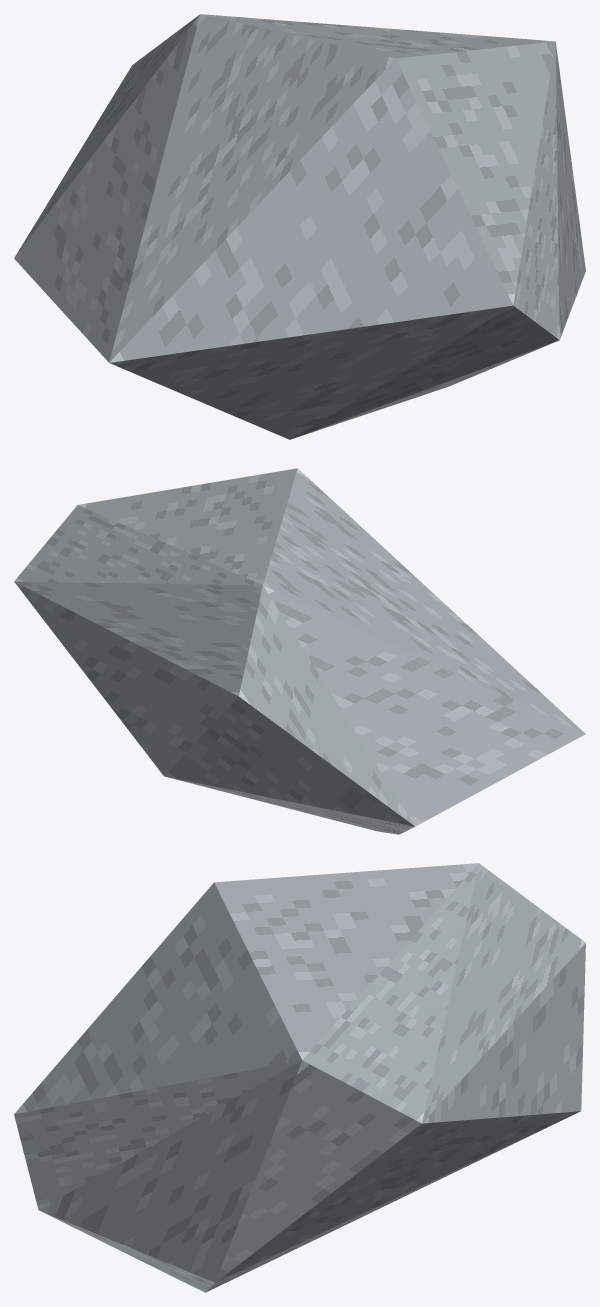
File: steel_chunk.glb
The picture shows the model from 3 angles, top to bottom: view 1: azimuth 30°, elevation 25°; view 2: azimuth 150°, elevation 25°; view 3: azimuth 270°, elevation 25°; orthographic projection. The views are drawn at different scales.
Visible parts, largest first — view 1: block_irregular metal; view 2: block_irregular metal; view 3: block_irregular metal.
Part boxes in pixels (box(x1,y1,x2,y2)): block_irregular metal: box(14, 14, 585, 439); block_irregular metal: box(14, 468, 585, 834); block_irregular metal: box(14, 863, 585, 1292).
Bounding box in the file's own units: 0.0716 × 0.0458 × 0.0608.
Materials: 1 (1 with a texture image).
